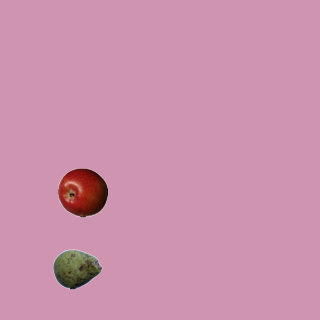Apple Braeburn: (57, 167, 107, 217)
Pear Stone: (52, 244, 102, 294)
